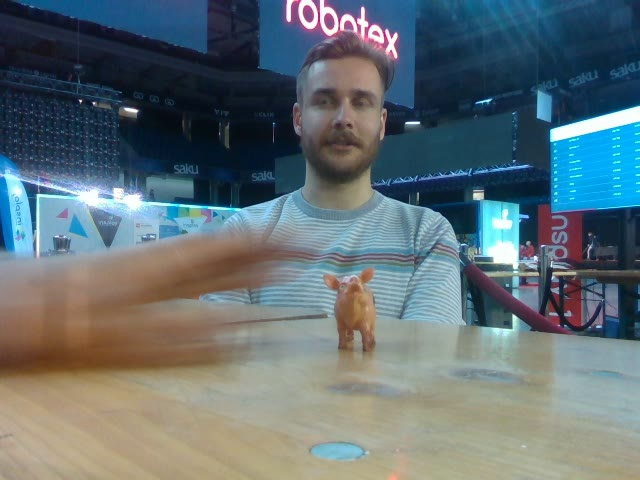toy: (319, 266, 389, 353)
